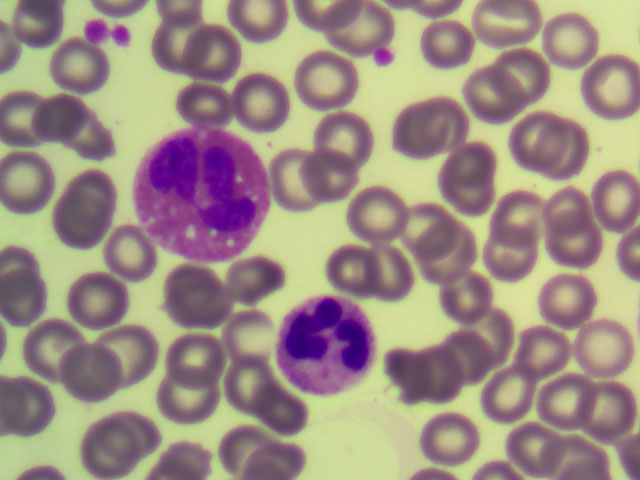Platelets: (85, 22, 137, 47), (374, 48, 394, 66)
RBC: (239, 424, 303, 480), (49, 41, 113, 96), (62, 109, 126, 164), (29, 92, 93, 147), (14, 92, 78, 147), (37, 200, 101, 255), (64, 170, 128, 225), (91, 225, 155, 280), (62, 278, 126, 333), (25, 314, 89, 369), (57, 345, 121, 400), (83, 319, 147, 374), (116, 402, 180, 457), (80, 423, 144, 478), (157, 376, 221, 431), (159, 329, 223, 384), (202, 306, 266, 361), (218, 357, 282, 412), (250, 385, 314, 440), (160, 279, 224, 334), (220, 245, 284, 300), (311, 243, 375, 298), (350, 243, 414, 298), (347, 190, 411, 245), (295, 145, 359, 200), (255, 147, 319, 202), (325, 112, 389, 167), (288, 49, 352, 104), (227, 73, 291, 128), (176, 80, 240, 135), (184, 21, 248, 76), (134, 8, 198, 63), (414, 17, 478, 72), (1, 149, 64, 204), (539, 13, 602, 68), (577, 61, 640, 116), (539, 119, 602, 174), (505, 113, 568, 168), (489, 46, 552, 101), (451, 66, 514, 121), (413, 95, 476, 150), (382, 100, 445, 155), (436, 134, 499, 189), (441, 175, 504, 230), (416, 228, 479, 283), (397, 199, 460, 254), (435, 266, 498, 321), (468, 297, 531, 352), (453, 326, 516, 381), (409, 346, 472, 401), (385, 351, 448, 406), (421, 407, 484, 462), (479, 364, 542, 419), (517, 319, 580, 374), (560, 319, 623, 374), (577, 392, 640, 447), (538, 372, 601, 427), (503, 414, 566, 469), (538, 173, 601, 228), (541, 218, 604, 273), (493, 187, 556, 242), (482, 226, 545, 281), (478, 1, 542, 55), (536, 273, 599, 326), (591, 171, 640, 237), (7, 372, 56, 438)
WBC: (139, 124, 264, 259), (276, 295, 379, 396)
